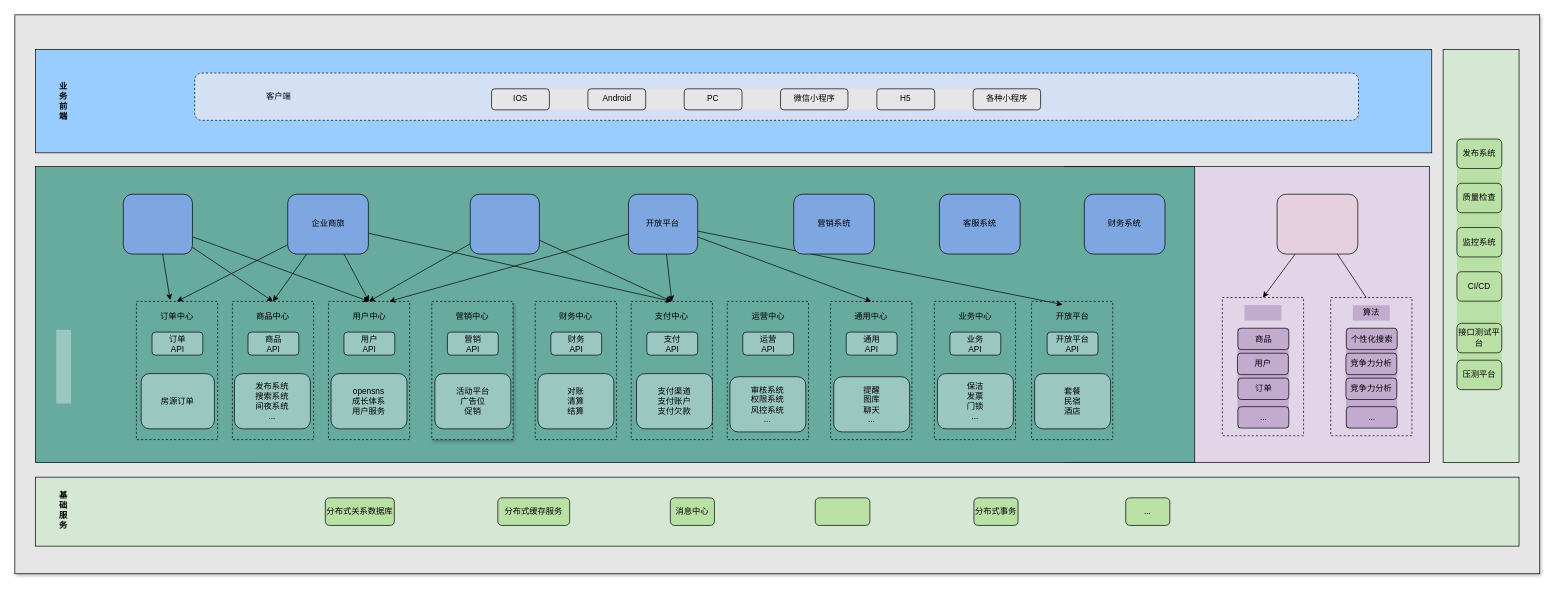
The diagram is 1556 pixels wide and 591 high, and some of its shapes have lost their labels. The centre of each missing label's shape, as x and y in pixels:
BI: the point at 1317,224
乡村美宿: the point at 504,224
任务调度中心: the point at 842,511
后端服务: the point at 63,366
城市民宿: the point at 157,224
数仓: the point at 1262,312
